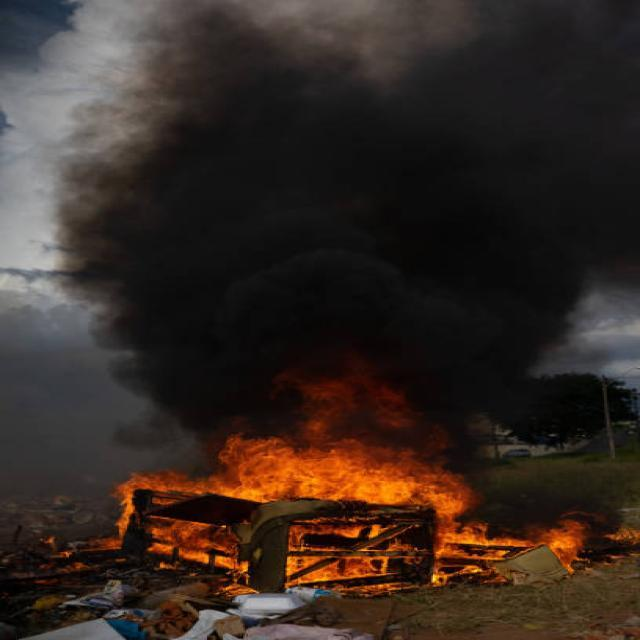Fire: (134, 374, 572, 582)
Smoke: (54, 13, 640, 370)
